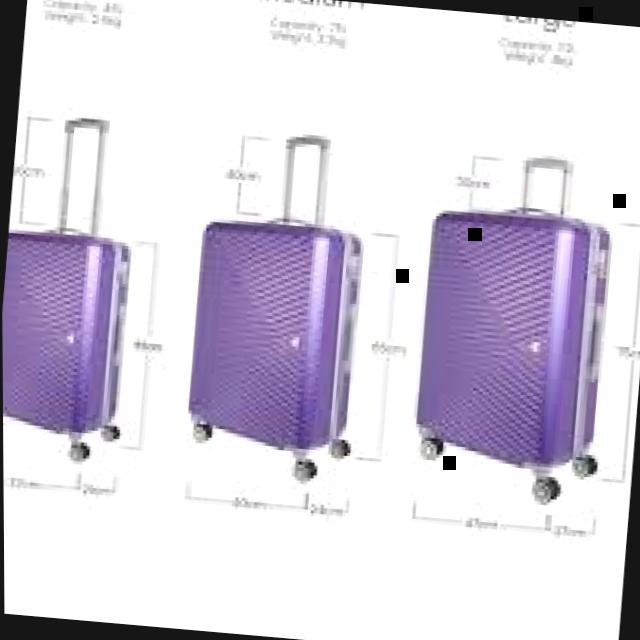luggage: (408, 192, 619, 476), (177, 201, 371, 459), (1, 219, 140, 442)
